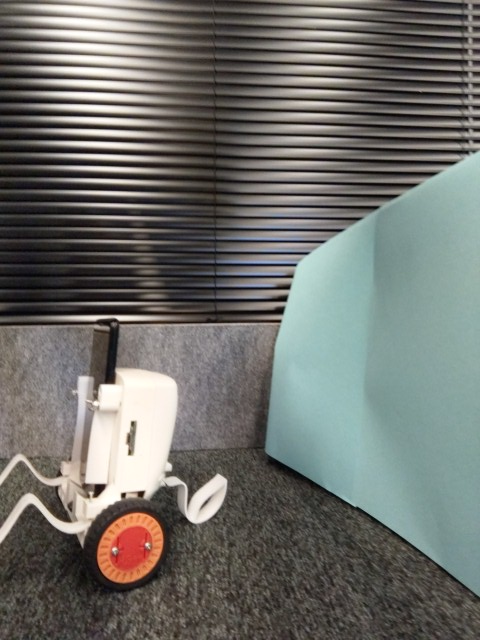bl: (1, 316, 234, 593)
